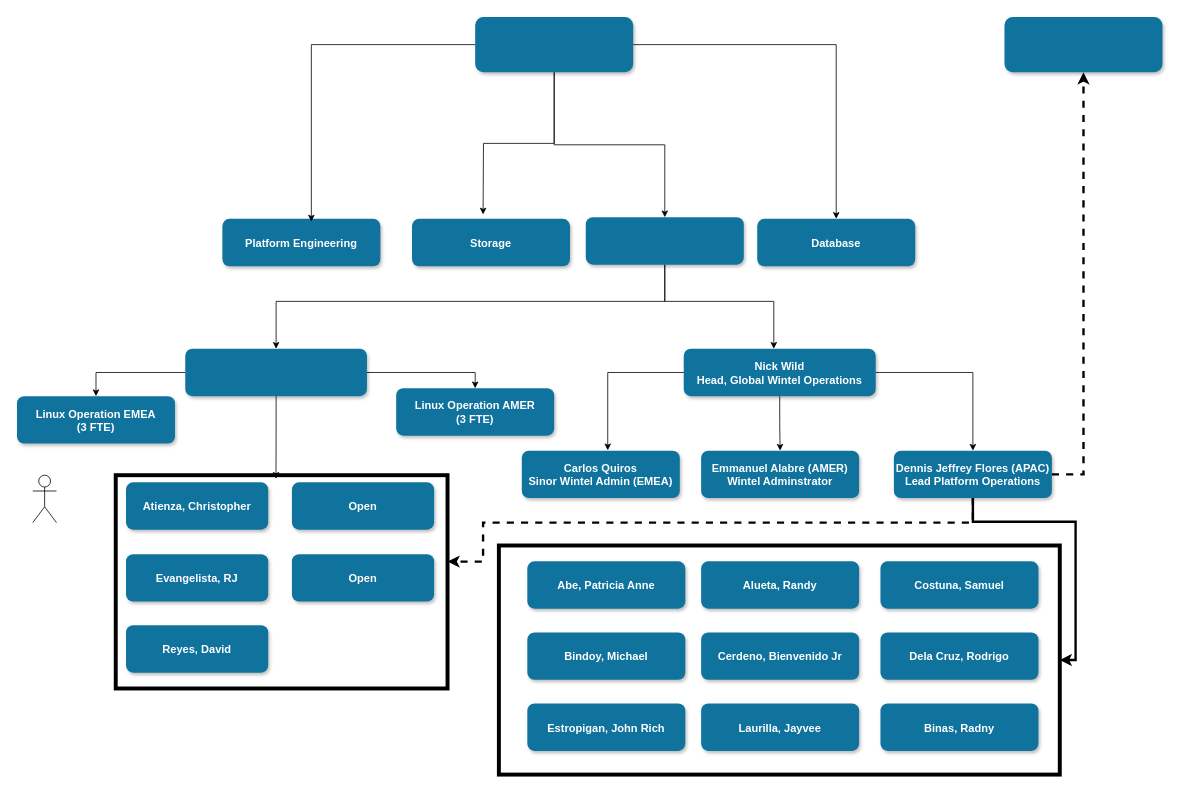
This 1180x790 diagram has some shape labels left out. Each missing label, with the centre of its shape:
"Brad Craig Regional Infrastructure Head" goes at (x=1084, y=45).
"Craig Richards Global Head Platform Services" goes at (x=555, y=45).
"FTE 1" goes at (x=44, y=498).
"Nathan Hale Platform Operations" goes at (x=665, y=242).
"Peter Michaels Linux Server Operations Lead" goes at (x=276, y=373).
